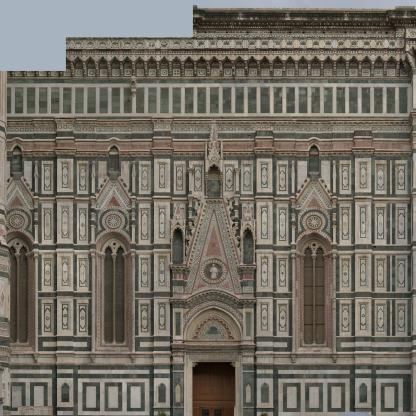Building Outline: (0, 5, 416, 416)
Cornice: (185, 195, 241, 271), (90, 171, 136, 204), (291, 172, 337, 204), (6, 172, 35, 203)
Deco: (191, 210, 236, 294), (295, 191, 332, 244), (95, 191, 131, 243), (1, 190, 34, 242), (192, 315, 234, 340), (18, 406, 53, 415), (128, 75, 138, 97), (189, 355, 238, 359)
Door: (192, 362, 235, 416)
Facade: (0, 71, 415, 415)
Floor Slab: (0, 145, 416, 150)
Ground Floor: (0, 149, 416, 416)
Molding: (5, 49, 412, 77), (7, 113, 416, 132), (7, 150, 412, 158), (172, 350, 255, 355)
Pillar: (53, 116, 77, 416), (150, 116, 174, 416), (351, 136, 376, 416), (253, 126, 276, 416), (239, 202, 257, 416), (169, 203, 187, 416), (14, 254, 21, 343), (111, 254, 118, 343), (33, 252, 39, 353), (90, 253, 96, 353), (130, 253, 136, 353), (311, 255, 317, 344), (332, 252, 337, 353), (291, 255, 296, 353)
Sill: (290, 353, 339, 363), (89, 354, 137, 363), (1, 353, 40, 362)
Top Floor: (0, 20, 416, 150)
Window: (296, 231, 333, 354), (96, 231, 132, 354), (0, 231, 35, 353)
